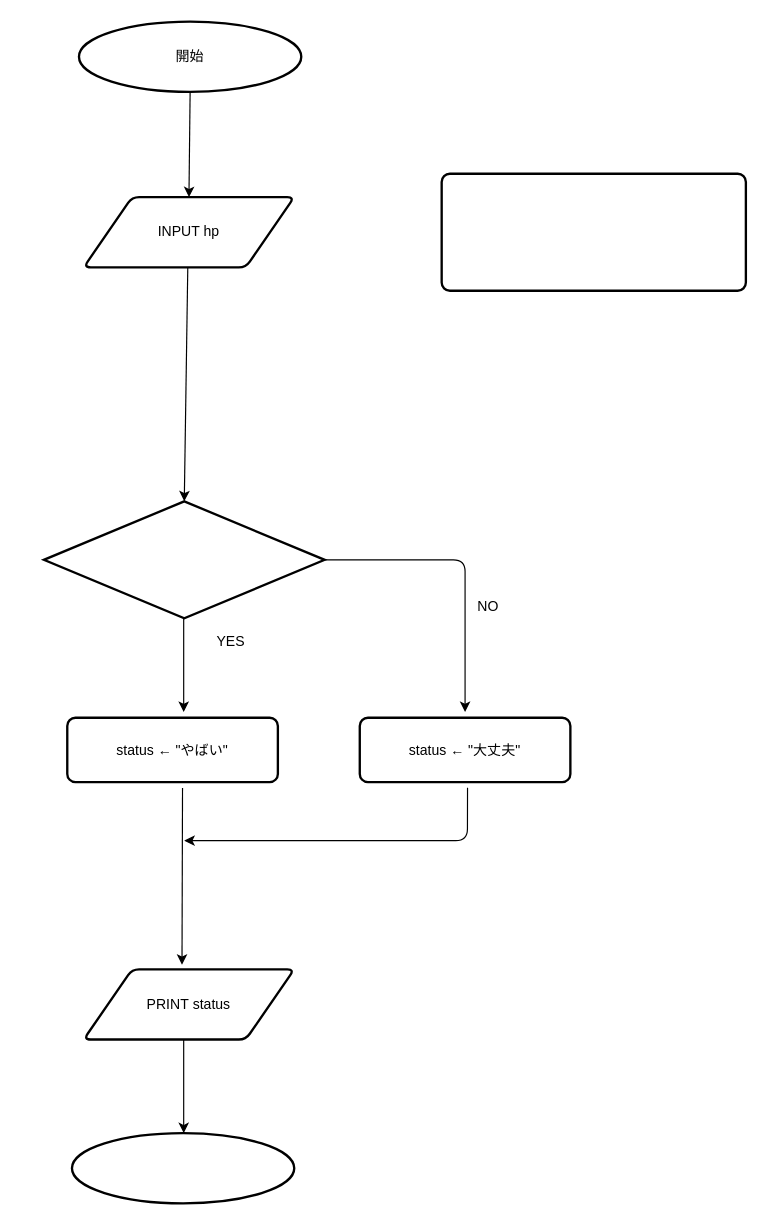
The diagram is 766 pixels wide and 1224 high, and some of its shapes have lost their labels. The shapes that lost their labels are listed below. From the top down, each one's centre as x and y in pixels, then its label:
[593,231]: 変数定義 hp: ヒットポイント status: 勇者の状態
[183,559]: hp < 30
[182,1167]: 終了
